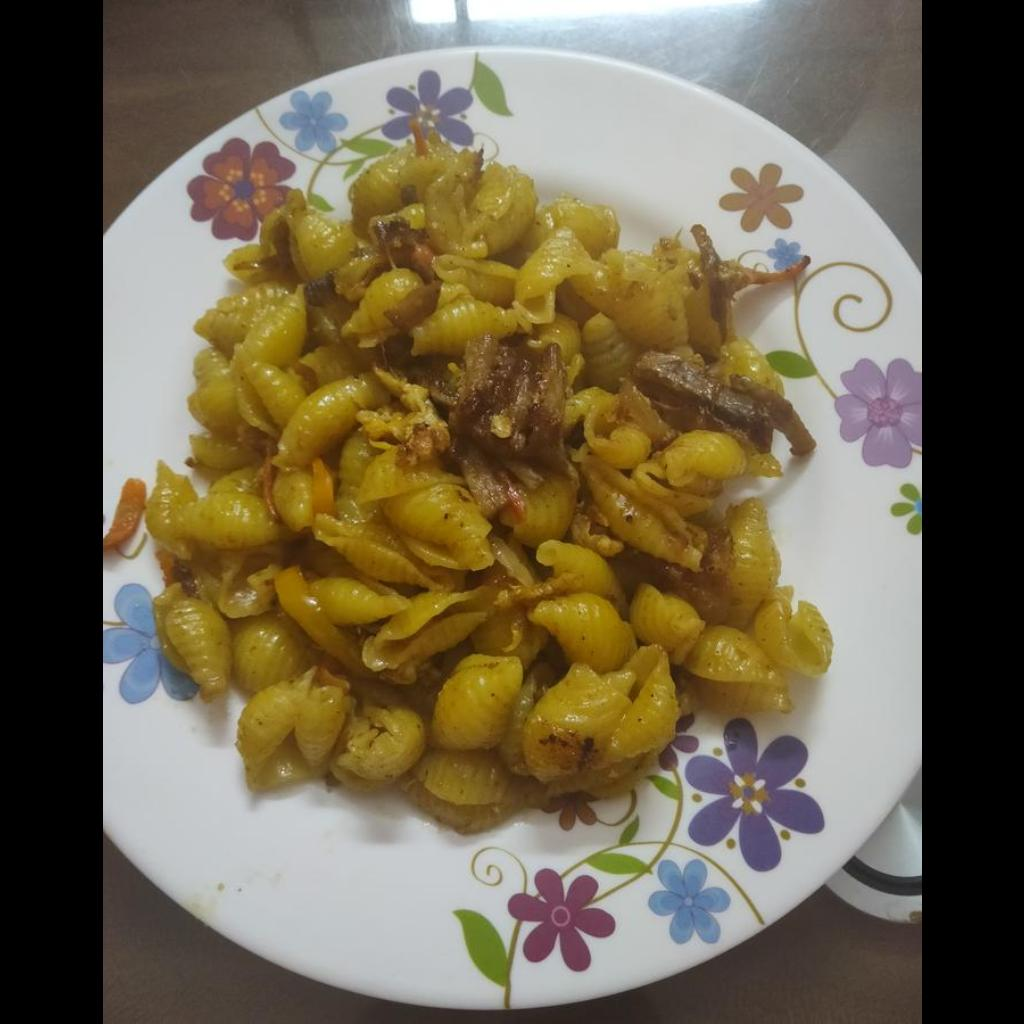noodles: (140, 139, 835, 819)
